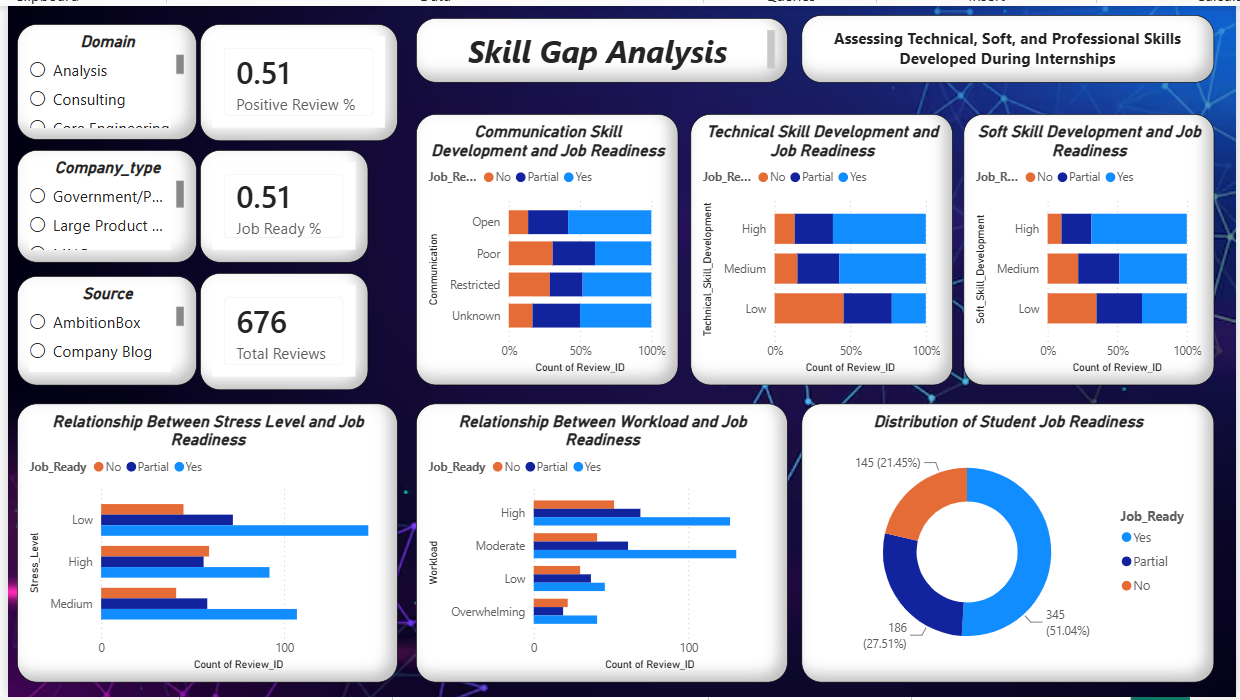

This screenshot's page, from the dashboard's own definition file:
{"tool":"powerbi","page":{"name":"Skill Gap Analysis","canvas":[1280,720],"ordinal":2},"visuals":[{"type":"listSlicer","fields":{"Values":["Internship_Experience_dataset_Final.Domain"]},"box":[9.4,18.8,187.6,120.4],"z":0},{"type":"listSlicer","fields":{"Values":["Internship_Experience_dataset_Final.Company_type"]},"box":[9.4,150,187.6,117.2],"z":1000},{"type":"listSlicer","fields":{"Values":["Internship_Experience_dataset_Final.Source"]},"box":[9.4,281.3,187.6,114.1],"z":2000},{"type":"cardVisual","fields":{"Data":["Internship_Experience_dataset_Final.Total Reviews"]},"box":[200.1,278.2,175.1,121.9],"z":3000},{"type":"cardVisual","fields":{"Data":["Internship_Experience_dataset_Final.Job Ready %"]},"box":[200.1,150,175.1,117.2],"z":4000},{"type":"cardVisual","fields":{"Data":["Internship_Experience_dataset_Final.Positive Review %"]},"box":[200.1,18.8,206.3,121.9],"z":5000},{"type":"hundredPercentStackedBarChart","title":"Communication Skill Development and Job Readiness","fields":{"Category":["Internship_Experience_dataset_Final.Communication"],"Y":["CountNonNull(Internship_Experience_dataset_Final.Review_ID)"],"Series":["Internship_Experience_dataset_Final.Job_Ready"]},"box":[425.1,112.5,273.5,282.9],"z":6000},{"type":"hundredPercentStackedBarChart","title":"Technical Skill Development and Job Readiness","fields":{"Category":["Internship_Experience_dataset_Final.Technical_Skill_Development"],"Y":["CountNonNull(Internship_Experience_dataset_Final.Review_ID)"],"Series":["Internship_Experience_dataset_Final.Job_Ready"]},"box":[711.2,112.5,273.5,282.9],"z":7000},{"type":"hundredPercentStackedBarChart","title":"Soft Skill Development and Job Readiness","fields":{"Category":["Internship_Experience_dataset_Final.Soft_Skill_Development"],"Y":["CountNonNull(Internship_Experience_dataset_Final.Review_ID)"],"Series":["Internship_Experience_dataset_Final.Job_Ready"]},"box":[995.6,112.5,261,282.9],"z":8000},{"type":"clusteredBarChart","title":"Relationship Between Stress Level and Job Readiness","fields":{"Category":["Internship_Experience_dataset_Final.Stress_Level"],"Y":["CountNonNull(Internship_Experience_dataset_Final.Review_ID)"],"Series":["Internship_Experience_dataset_Final.Job_Ready"]},"box":[9.4,414.2,397,290.7],"z":9000},{"type":"clusteredBarChart","title":"Relationship Between Workload and Job Readiness","fields":{"Category":["Internship_Experience_dataset_Final.Workload"],"Y":["CountNonNull(Internship_Experience_dataset_Final.Review_ID)"],"Series":["Internship_Experience_dataset_Final.Job_Ready"]},"box":[425.1,414.2,387.6,290.7],"z":10000},{"type":"donutChart","title":"Distribution of Student Job Readiness","fields":{"Category":["Internship_Experience_dataset_Final.Job_Ready"],"Y":["CountNonNull(Internship_Experience_dataset_Final.Review_ID)"]},"box":[826.8,414.2,429.8,290.7],"z":11000},{"type":"textbox","box":[425.1,12.5,387.6,67.2],"z":12000},{"type":"textbox","box":[826.8,9.4,429.8,70.3],"z":13000}]}

Visuals, with their boxes in screenshot pixels (x1, y1, x2, y2):
listSlicer - Internship_Experience_dataset_Final.Domain: box(15, 21, 195, 136)
listSlicer - Internship_Experience_dataset_Final.Company_type: box(15, 147, 195, 259)
listSlicer - Internship_Experience_dataset_Final.Source: box(15, 272, 195, 381)
cardVisual - Internship_Experience_dataset_Final.Total Reviews: box(198, 269, 365, 385)
cardVisual - Internship_Experience_dataset_Final.Job Ready %: box(198, 147, 365, 259)
cardVisual - Internship_Experience_dataset_Final.Positive Review %: box(198, 21, 395, 138)
"Communication Skill Development and Job Readiness" hundredPercentStackedBarChart: box(413, 111, 674, 381)
"Technical Skill Development and Job Readiness" hundredPercentStackedBarChart: box(686, 111, 947, 381)
"Soft Skill Development and Job Readiness" hundredPercentStackedBarChart: box(958, 111, 1207, 381)
"Relationship Between Stress Level and Job Readiness" clusteredBarChart: box(15, 399, 395, 677)
"Relationship Between Workload and Job Readiness" clusteredBarChart: box(413, 399, 783, 677)
"Distribution of Student Job Readiness" donutChart: box(796, 399, 1207, 677)
textbox: box(413, 15, 783, 79)
textbox: box(796, 12, 1207, 79)
